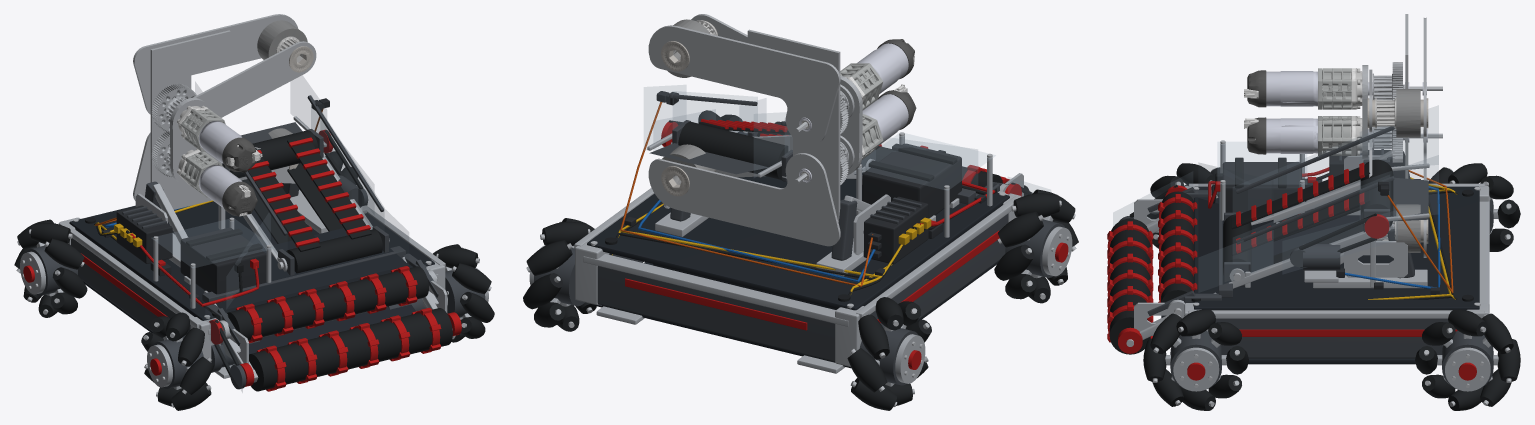
File: robot-v2.glb
3 renders of one model, left to right at view 1: azimuth 30°, elevation 25°; view 2: azimuth 150°, elevation 25°; view 3: azimuth 270°, elevation 25°, orthographic. The views are drawn at different scales.
Parts seen in each view (by area): view 1: INFERRED_INDEXER__Roller_rubber, INFERRED_CHASSIS__Dark_composite, INFERRED_INDEXER__Clear_polycarbonate, INFERRED_INTAKE_ROLLER_FRONT__Roller_rubber, INFERRED_CHASSIS__Connector_housing, INFERRED_CHASSIS__Satin_aluminum, INFERRED_INTAKE_ROLLER_TRANSFER__Roller_rubber, Body1.170, INFERRED_INDEXER__Dark_composite, INFERRED_WHEEL_L_REAR__Roller_rubber, INFERRED_WHEEL_L_FRONT__Roller_rubber, INFERRED_CHASSIS__Dark_anodized_alloy (+33 smaller); view 2: INFERRED_CHASSIS__Dark_composite, INFERRED_CHASSIS__Dark_anodized_alloy, INFERRED_CHASSIS__Satin_aluminum, Body1.165, Body1.171, INFERRED_INDEXER__Clear_polycarbonate, INFERRED_CHASSIS__Connector_housing, INFERRED_WHEEL_L_FRONT__Roller_rubber, INFERRED_WHEEL_L_REAR__Roller_rubber, INFERRED_CHASSIS__Clear_polycarbonate, INFERRED_WHEEL_R_REAR__Roller_rubber, Body1.170 (+23 smaller); view 3: INFERRED_INDEXER__Clear_polycarbonate, INFERRED_CHASSIS__Dark_composite, INFERRED_CHASSIS__Satin_aluminum, INFERRED_CHASSIS__Dark_anodized_alloy, INFERRED_INDEXER__Roller_rubber, INFERRED_WHEEL_R_REAR__Roller_rubber, INFERRED_WHEEL_R_FRONT__Roller_rubber, INFERRED_INDEXER__Dark_anodized_alloy, INFERRED_CHASSIS__Connector_housing, INFERRED_INDEXER__Satin_aluminum, INFERRED_INTAKE_ROLLER_FRONT__Roller_rubber, INFERRED_INDEXER__Dark_composite (+36 smaller).
Part boxes in pixels (left/top/right/bottom): INFERRED_INDEXER__Roller_rubber: left=229, top=130, right=382, bottom=273; INFERRED_CHASSIS__Dark_composite: left=69, top=189, right=434, bottom=333; INFERRED_INDEXER__Clear_polycarbonate: left=195, top=75, right=408, bottom=307; INFERRED_INTAKE_ROLLER_FRONT__Roller_rubber: left=249, top=308, right=452, bottom=391; INFERRED_CHASSIS__Connector_housing: left=101, top=205, right=266, bottom=298; INFERRED_CHASSIS__Satin_aluminum: left=58, top=183, right=445, bottom=362; INFERRED_INTAKE_ROLLER_TRANSFER__Roller_rubber: left=227, top=266, right=428, bottom=340; Body1.170: left=150, top=30, right=230, bottom=209; INFERRED_INDEXER__Dark_composite: left=227, top=228, right=408, bottom=309; INFERRED_WHEEL_L_REAR__Roller_rubber: left=14, top=219, right=87, bottom=317; INFERRED_WHEEL_L_FRONT__Roller_rubber: left=141, top=312, right=214, bottom=410; INFERRED_CHASSIS__Dark_anodized_alloy: left=71, top=181, right=387, bottom=344; INFERRED_CHASSIS__Dark_composite: left=587, top=131, right=1009, bottom=368; INFERRED_CHASSIS__Dark_anodized_alloy: left=597, top=197, right=1008, bottom=361; INFERRED_CHASSIS__Satin_aluminum: left=574, top=130, right=1021, bottom=366; Body1.165: left=648, top=153, right=840, bottom=246; Body1.171: left=648, top=25, right=840, bottom=145; INFERRED_INDEXER__Clear_polycarbonate: left=644, top=85, right=977, bottom=184; INFERRED_CHASSIS__Connector_housing: left=624, top=143, right=986, bottom=275; INFERRED_WHEEL_L_FRONT__Roller_rubber: left=994, top=189, right=1078, bottom=303; INFERRED_WHEEL_L_REAR__Roller_rubber: left=847, top=297, right=931, bottom=410; INFERRED_CHASSIS__Clear_polycarbonate: left=858, top=133, right=995, bottom=190; INFERRED_WHEEL_R_REAR__Roller_rubber: left=523, top=218, right=596, bottom=331; Body1.170: left=747, top=29, right=840, bottom=222; INFERRED_INDEXER__Clear_polycarbonate: left=1199, top=105, right=1438, bottom=292; INFERRED_CHASSIS__Dark_composite: left=1194, top=186, right=1479, bottom=364; INFERRED_CHASSIS__Satin_aluminum: left=1184, top=143, right=1489, bottom=331; INFERRED_CHASSIS__Dark_anodized_alloy: left=1208, top=148, right=1456, bottom=358; INFERRED_INDEXER__Roller_rubber: left=1223, top=159, right=1393, bottom=275; INFERRED_WHEEL_R_REAR__Roller_rubber: left=1415, top=309, right=1520, bottom=410; INFERRED_WHEEL_R_FRONT__Roller_rubber: left=1143, top=309, right=1248, bottom=410; INFERRED_INDEXER__Dark_anodized_alloy: left=1224, top=126, right=1428, bottom=286; INFERRED_CHASSIS__Connector_housing: left=1222, top=150, right=1439, bottom=294; INFERRED_INDEXER__Satin_aluminum: left=1229, top=163, right=1429, bottom=288; INFERRED_INTAKE_ROLLER_FRONT__Roller_rubber: left=1109, top=218, right=1150, bottom=354; INFERRED_INDEXER__Dark_composite: left=1198, top=198, right=1273, bottom=292.
Size of the model in its own units: 0.422 by 0.3294 by 0.4323.
